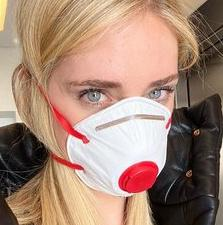OK: (58, 56, 180, 196)
